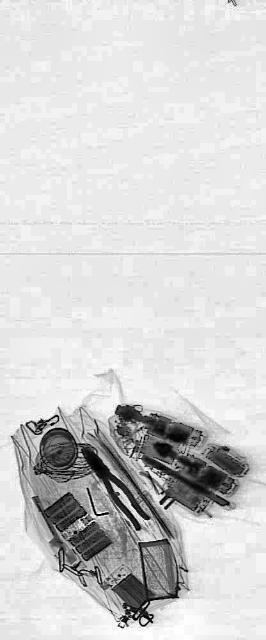Pliers: (78, 433, 150, 541)
